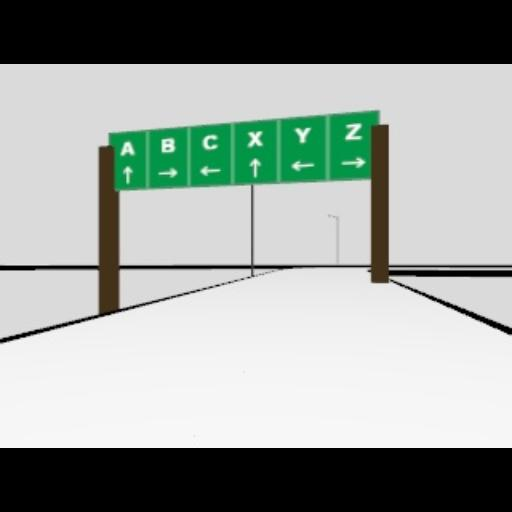A: (120, 140, 136, 158)
B: (160, 138, 176, 154)
C: (202, 133, 218, 149)
Left: (290, 158, 316, 174), (198, 164, 222, 178)
Right: (341, 156, 367, 170), (156, 166, 180, 180)
Straight: (248, 157, 264, 179), (122, 164, 134, 188)
X: (246, 130, 264, 148)
Y: (292, 124, 314, 146)
Z: (342, 122, 364, 144)
